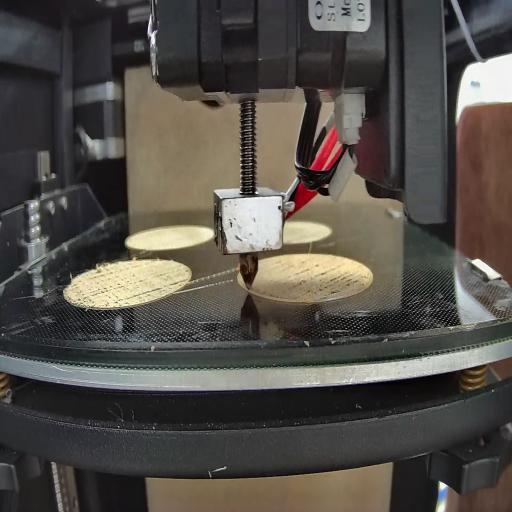under_extrusion: (64, 264, 165, 307), (274, 256, 368, 300), (168, 272, 192, 292)
